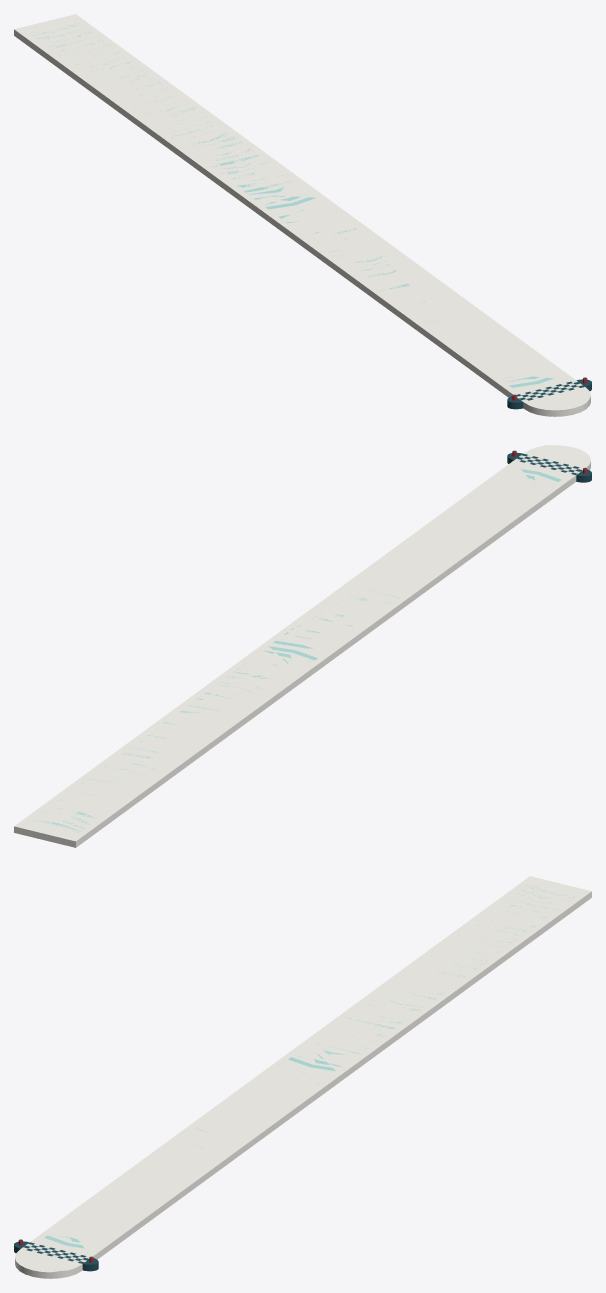
Rendered from Platform_1.fbx.
3 renders of one model, top to bottom at view 1: azimuth 30°, elevation 25°; view 2: azimuth 150°, elevation 25°; view 3: azimuth 330°, elevation 25°, orthographic.
Parts seen in each view (by area): view 1: Platform_1.001; view 2: Platform_1.001; view 3: Platform_1.001.
Boxes of the visible parts, box(x1,y1,x2,y2) form: Platform_1.001: box(14, 14, 591, 416); Platform_1.001: box(14, 445, 591, 847); Platform_1.001: box(14, 876, 591, 1278).
Bounding box in the file's own units: 2.68 × 0.3315 × 29.54.
Materials: 1 (1 with a texture image).
